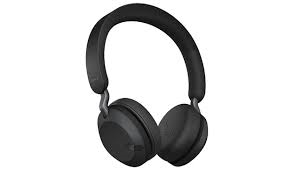headphone: (70, 4, 212, 167)
